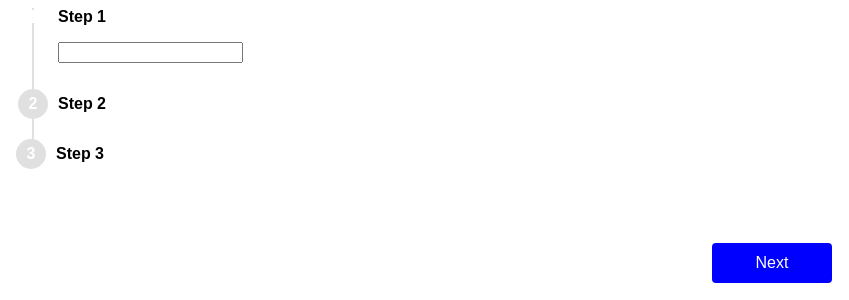
Scenario: VerticalStepper Component › preserves form data between steps
The width and height of the screenshot is (849, 300).
Fill step 1
In the field with test id "step1-input": (151, 53) top-left (58, 42), bottom-right (243, 63), type "Step 1 data"
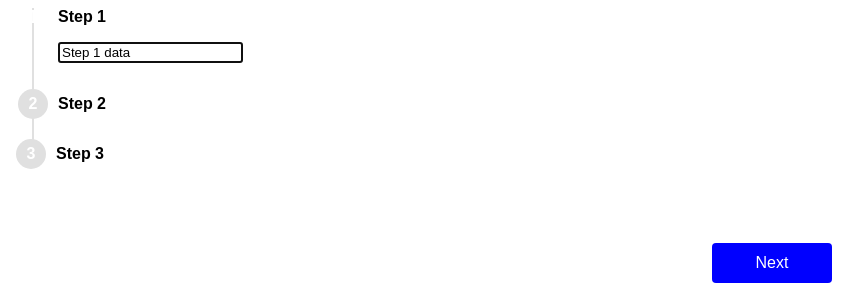
Click the button with test id "test-stepper-continue-button-0": (772, 263) top-left (712, 243), bottom-right (832, 283)
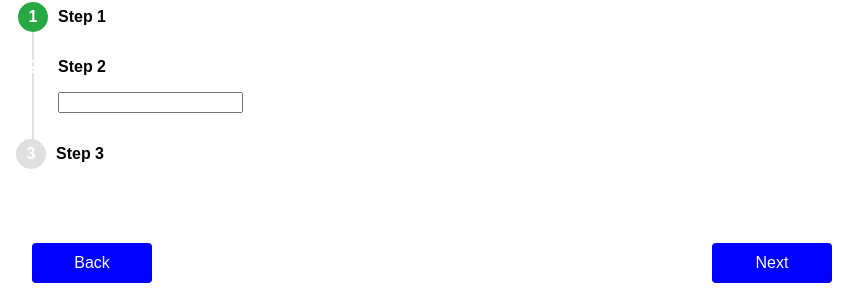
Fill step 2
In the field with test id "step2-input": (151, 103) top-left (58, 92), bottom-right (243, 113), type "Step 2 data"
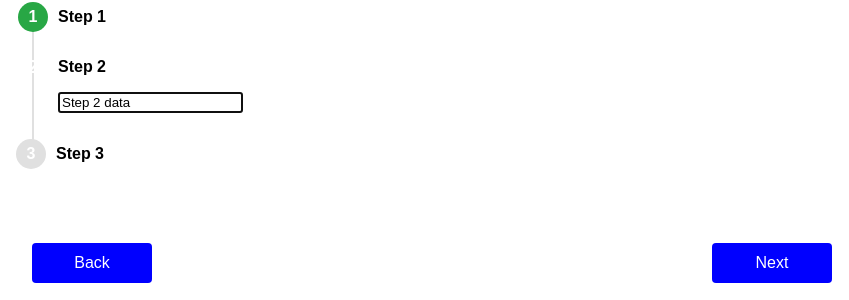
Go back to step 1
Click the button with test id "test-stepper-back-button": (92, 263) top-left (32, 243), bottom-right (152, 283)
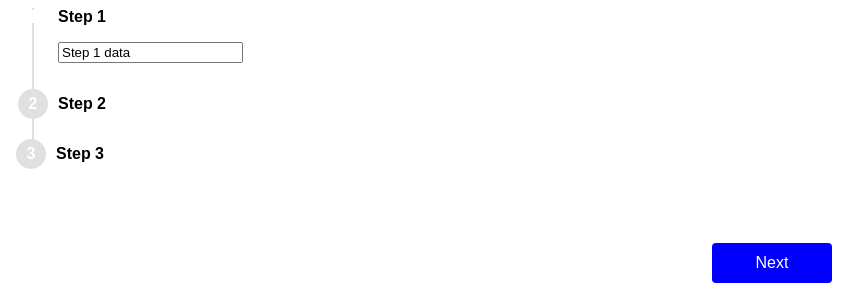
Check: the field with test id "step1-input" holds "Step 1 data", box top-left (58, 42), bottom-right (243, 63)
Go forward and verify step 2 data is preserved
Click the button with test id "test-stepper-continue-button-0": (772, 263) top-left (712, 243), bottom-right (832, 283)
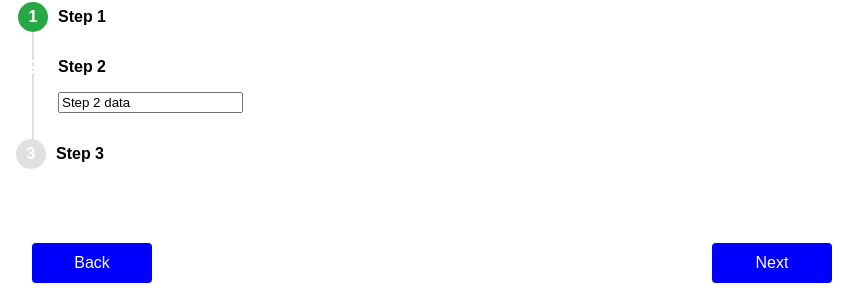
Check: the field with test id "step2-input" holds "Step 2 data", box top-left (58, 92), bottom-right (243, 113)
